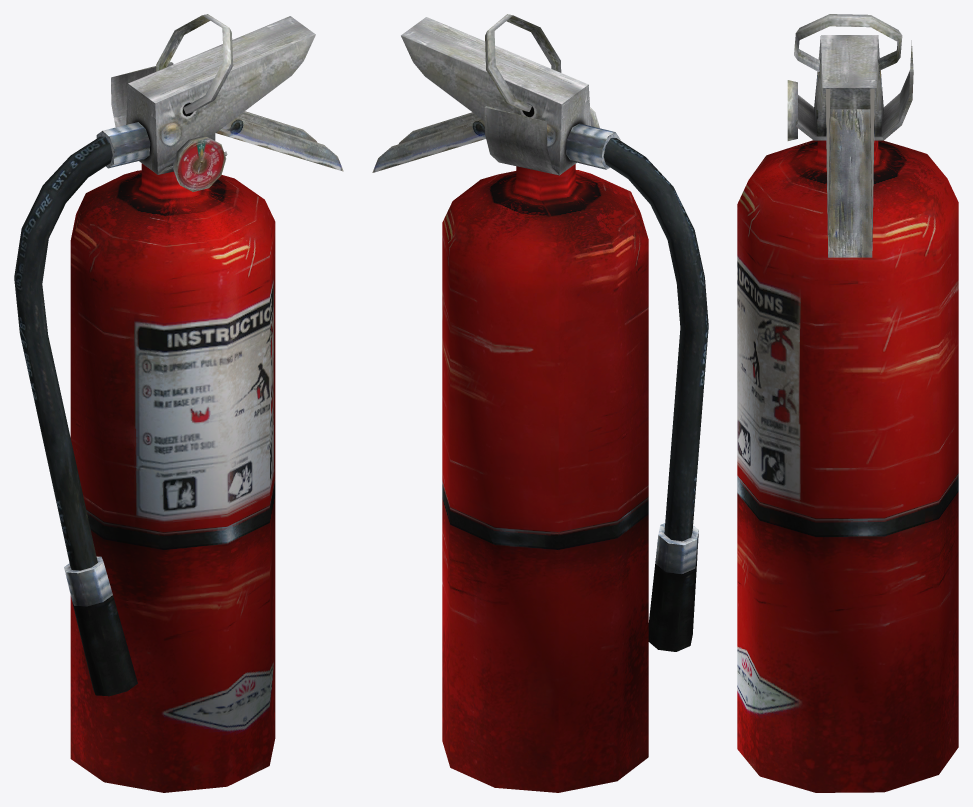
The model's file is Extinguisher.FBX.
The picture shows the model from 3 angles, left to right: view 1: azimuth 30°, elevation 25°; view 2: azimuth 150°, elevation 25°; view 3: azimuth 270°, elevation 25°; orthographic projection. The views are drawn at different scales.
Parts seen in each view (by area): view 1: Extinguisher; view 2: Extinguisher; view 3: Extinguisher.
Boxes of the visible parts, x1=… form: Extinguisher: x1=14, y1=14, x2=343, y2=792; Extinguisher: x1=372, y1=14, x2=708, y2=792; Extinguisher: x1=737, y1=14, x2=958, y2=792.
Size of the model in its own units: 10.14 by 21.77 by 5.78.
1 material, 1 textured.
